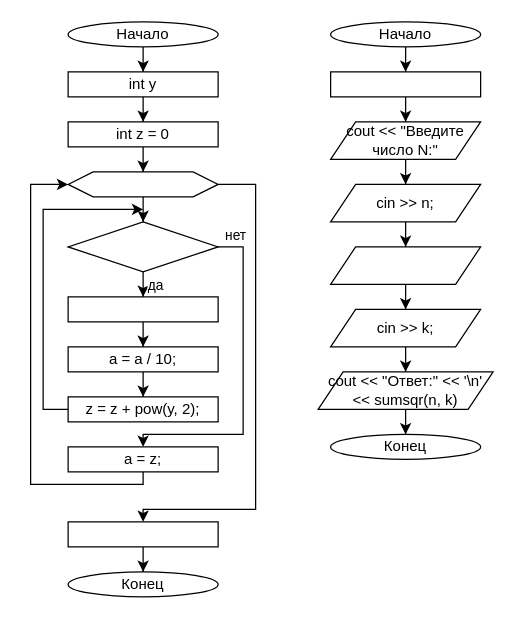
Some shapes in this 515 by 619 pixel diagram are drawn without their labels. The box of each missing label's shape, as (x1, y1, x2, y2) in pixels:
a != 0: (67, 221, 218, 272)
cout << "Введите число K:": (329, 246, 481, 284)
int i = 1; i <= b; i++: (67, 171, 218, 197)
int n, k: (329, 71, 481, 97)
return z: (67, 521, 218, 547)
y = a % 10;: (67, 296, 218, 322)
